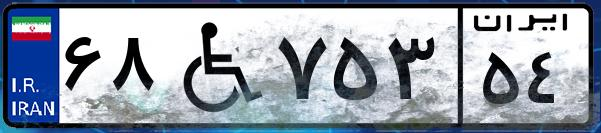3: (385, 28, 445, 110)
4: (525, 38, 570, 115)
5: (330, 28, 385, 110), (475, 38, 525, 113)
6: (57, 26, 110, 100)
7: (270, 28, 330, 110)
8: (110, 28, 158, 98)
ژ (معلولین و جانبازان): (158, 12, 270, 120)
